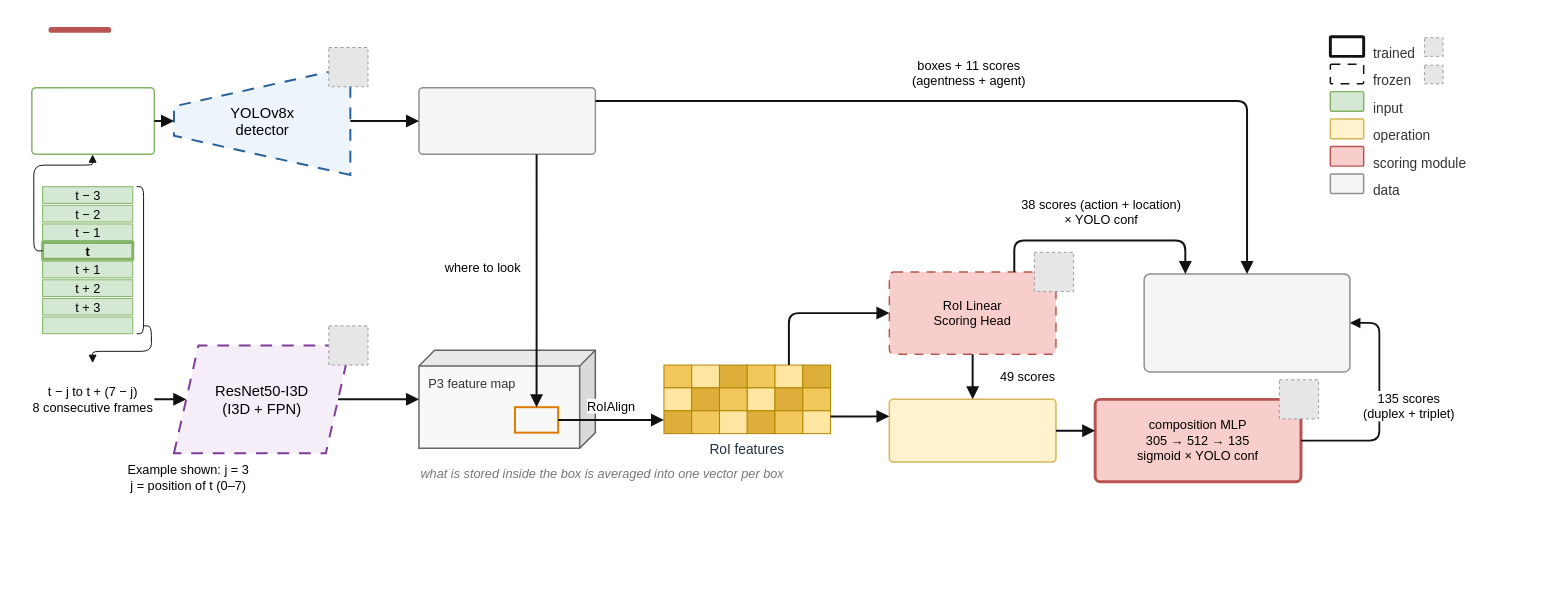
The diagram is 1562 pixels wide and 597 high, and some of its shapes have lost their labels. Grey dashed boxes stand in for pictures. The shapes that lost their labels are listed below. From the top down, each one's centre as x and y in pixels, then its label:
At (x=93, y=121): "frame t".
At (x=507, y=121): "boxes, conf, agent class; up to 300 per frame".
At (x=87, y=325): "t + 4".
At (x=1246, y=322): "per-frame detections: boxes + 184 scores 11 + 38 + 135 = 184".
At (x=972, y=430): "49 scores + 256 features = 305 inputs".
